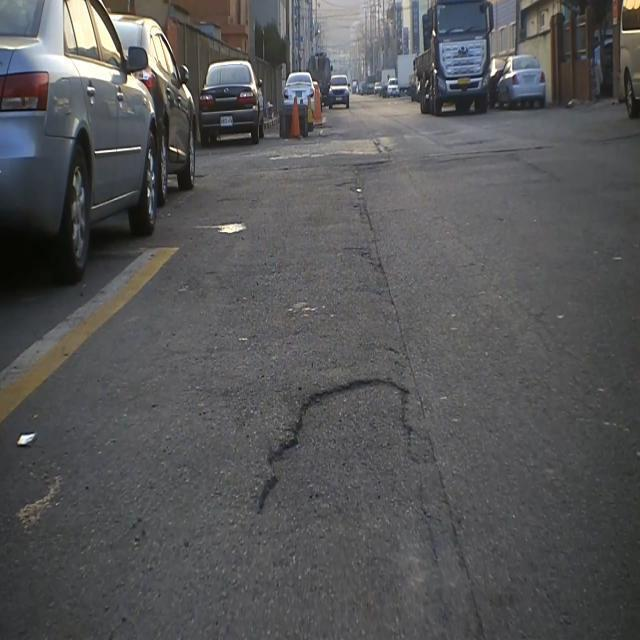pothole: (255, 367, 421, 532)
